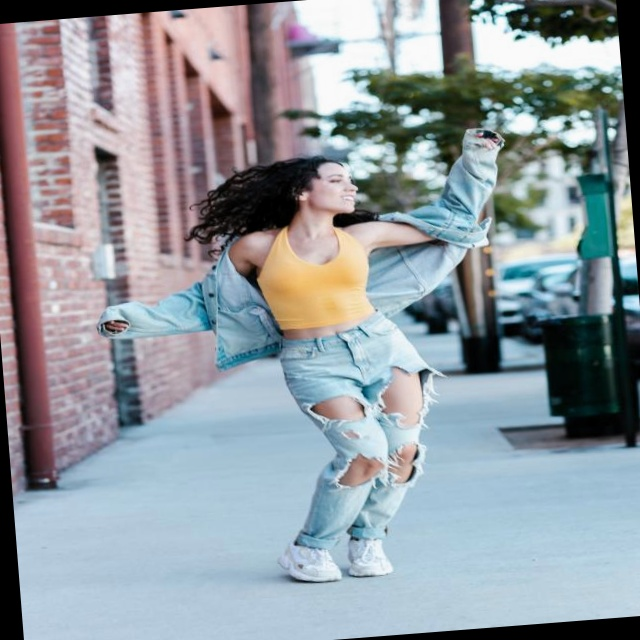Crop_Top: (256, 269, 375, 343)
Sleeveless: (227, 230, 268, 263), (355, 219, 395, 251)
low_neckline: (253, 222, 371, 324)
ripped_pants: (272, 312, 437, 552)
